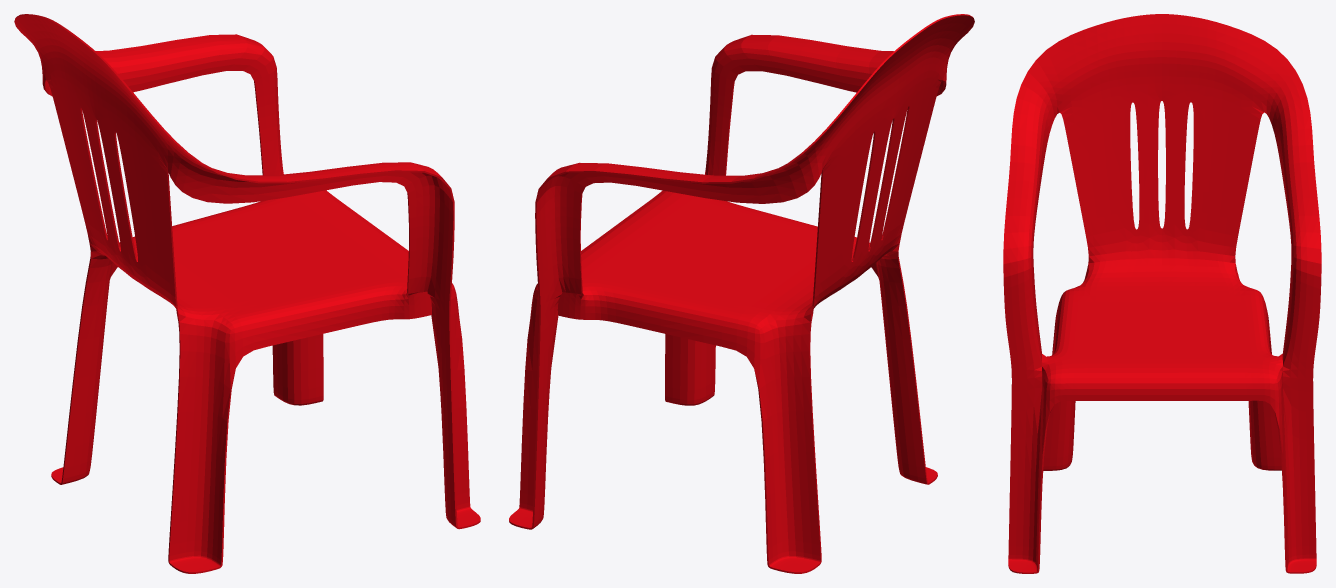
Rendered from chair.fbx.
3 views of the same model, side by side, from view 1: azimuth 30°, elevation 25°; view 2: azimuth 150°, elevation 25°; view 3: azimuth 270°, elevation 25° (orthographic). The views are drawn at different scales.
Parts seen in each view (by area): view 1: Silla; view 2: Silla; view 3: Silla.
Part boxes in pixels (x1,y1,x2,y2): Silla: (14, 14, 480, 573); Silla: (509, 14, 974, 573); Silla: (1003, 14, 1321, 573).
Size of the model in its own units: 212 by 312 by 212.
